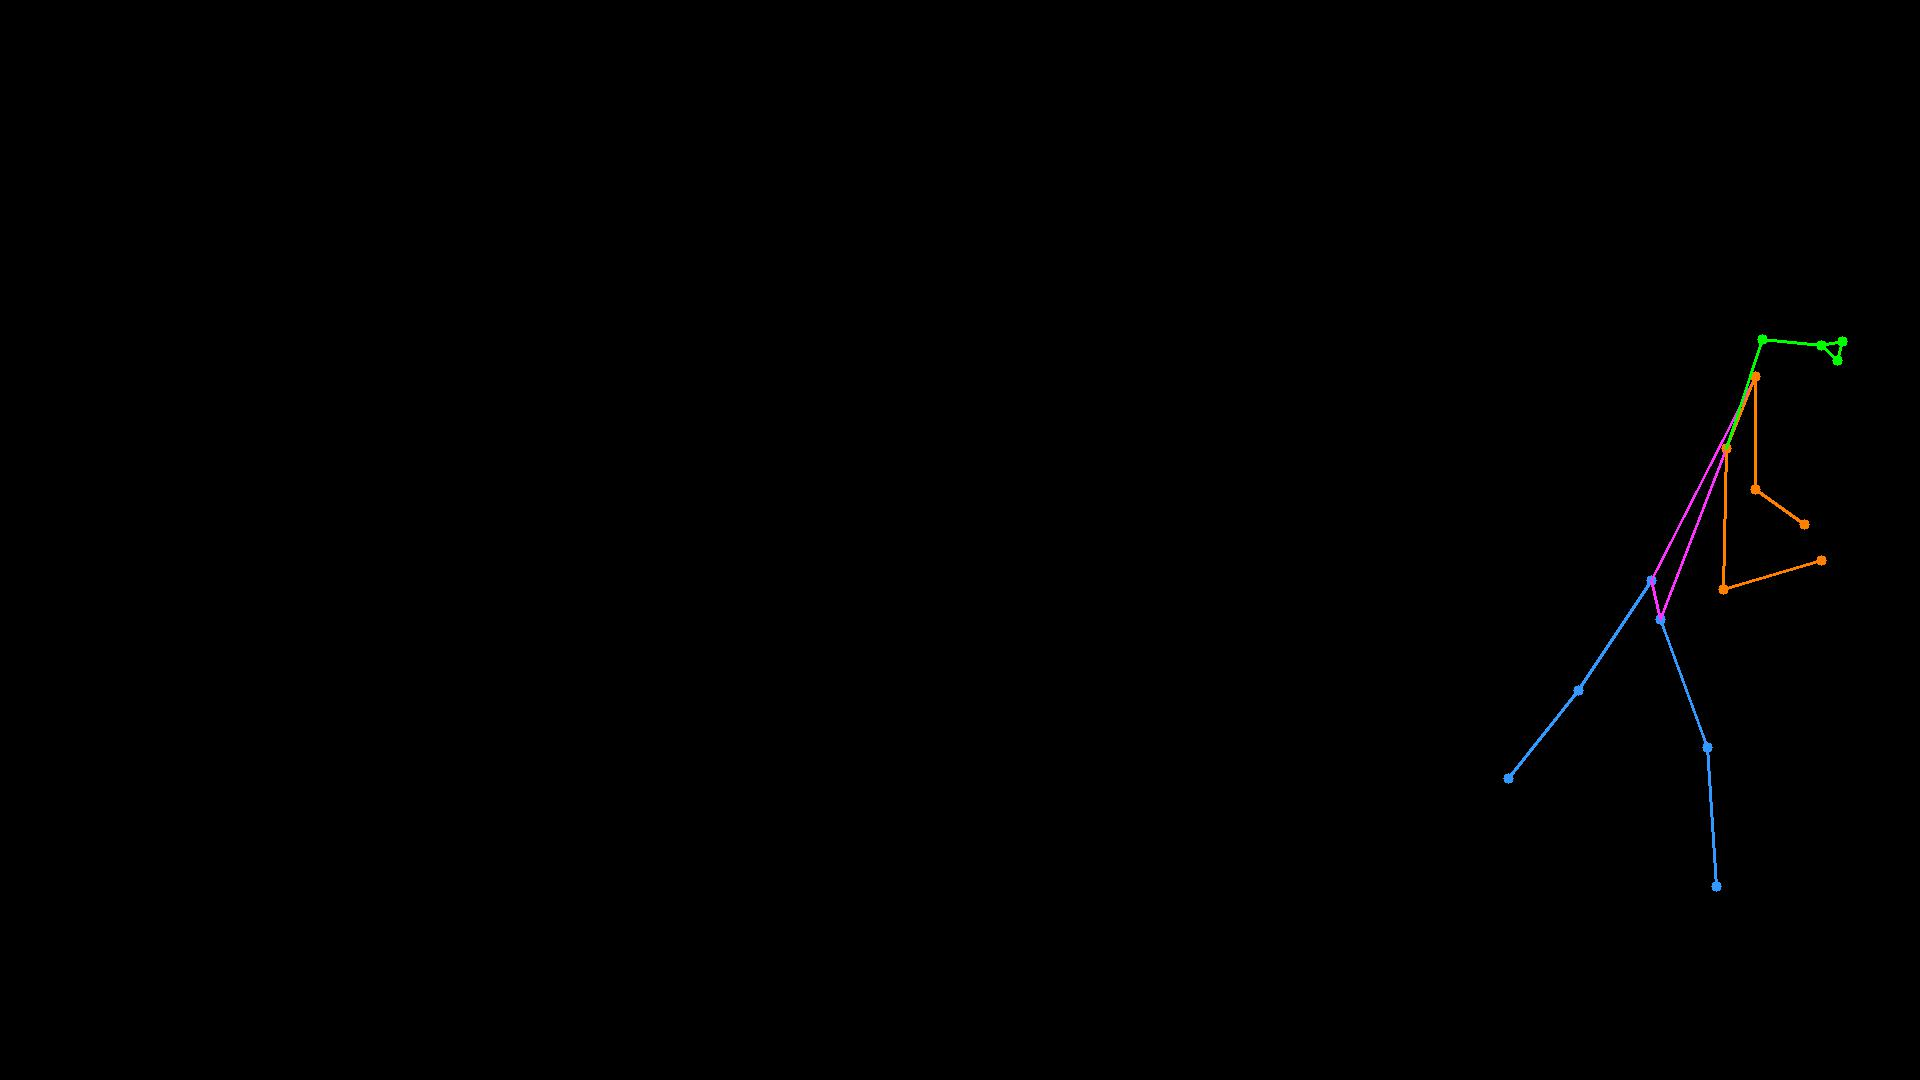normal: (1487, 284, 1879, 924)
